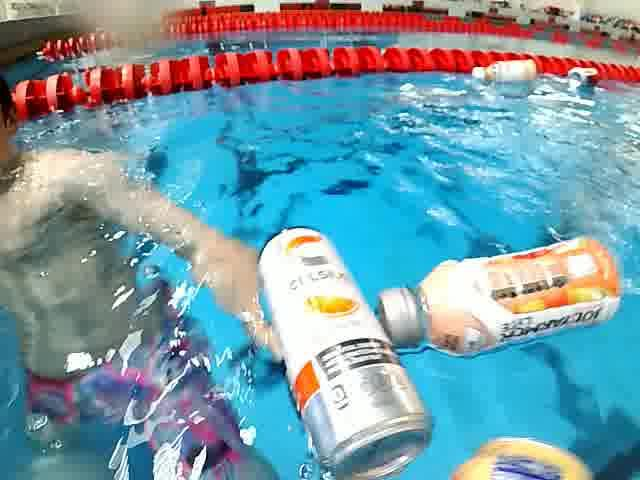Bottle: (375, 233, 623, 358), (472, 55, 538, 87)
Can: (254, 225, 436, 480)
